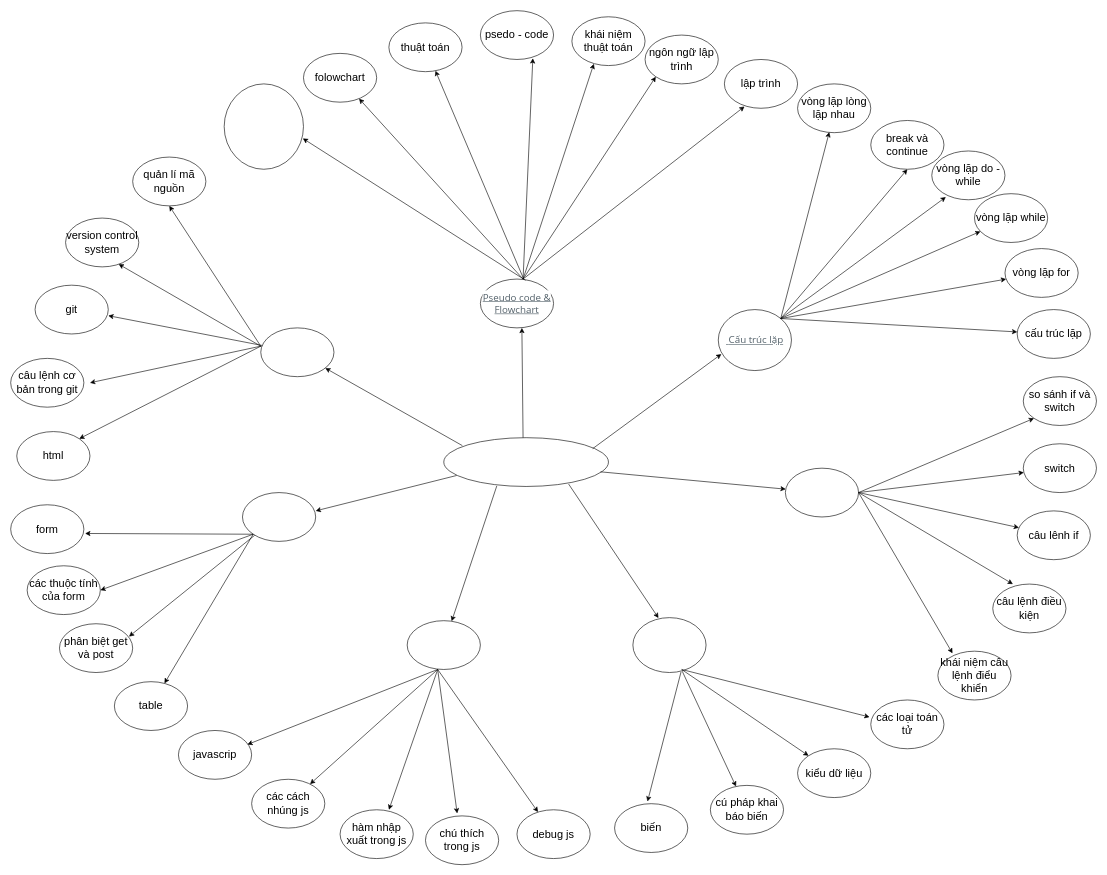
The diagram is 1107 pixels wide and 875 high, and some of its shapes have lost their labels. The centre of each missing label's shape, as x and y in pixels:
"Biến, kiểu dữ liệu và toán tử" goes at (x=669, y=645).
"Cấu trúc điều kiện" goes at (x=822, y=492).
"Git & HTML" goes at (x=297, y=352).
"HTML Form & Table" goes at (x=279, y=516).
"Module 1" goes at (x=525, y=461).
"Tổng quan JavaScript" goes at (x=443, y=644).
"ưu điểm và nhược điểm của psedo-code và folowchart" goes at (x=263, y=126).
